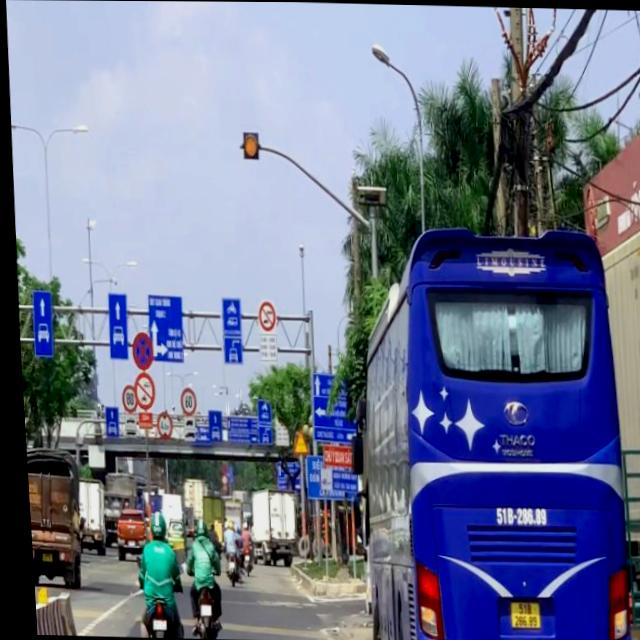Cam dung xe va do xe: (124, 330, 151, 371)
Chieu cao an toan: (285, 428, 304, 455)
Han che chieu cao: (150, 412, 168, 439)
Toc do toi da cho phep: (115, 384, 133, 414), (174, 387, 192, 415)
